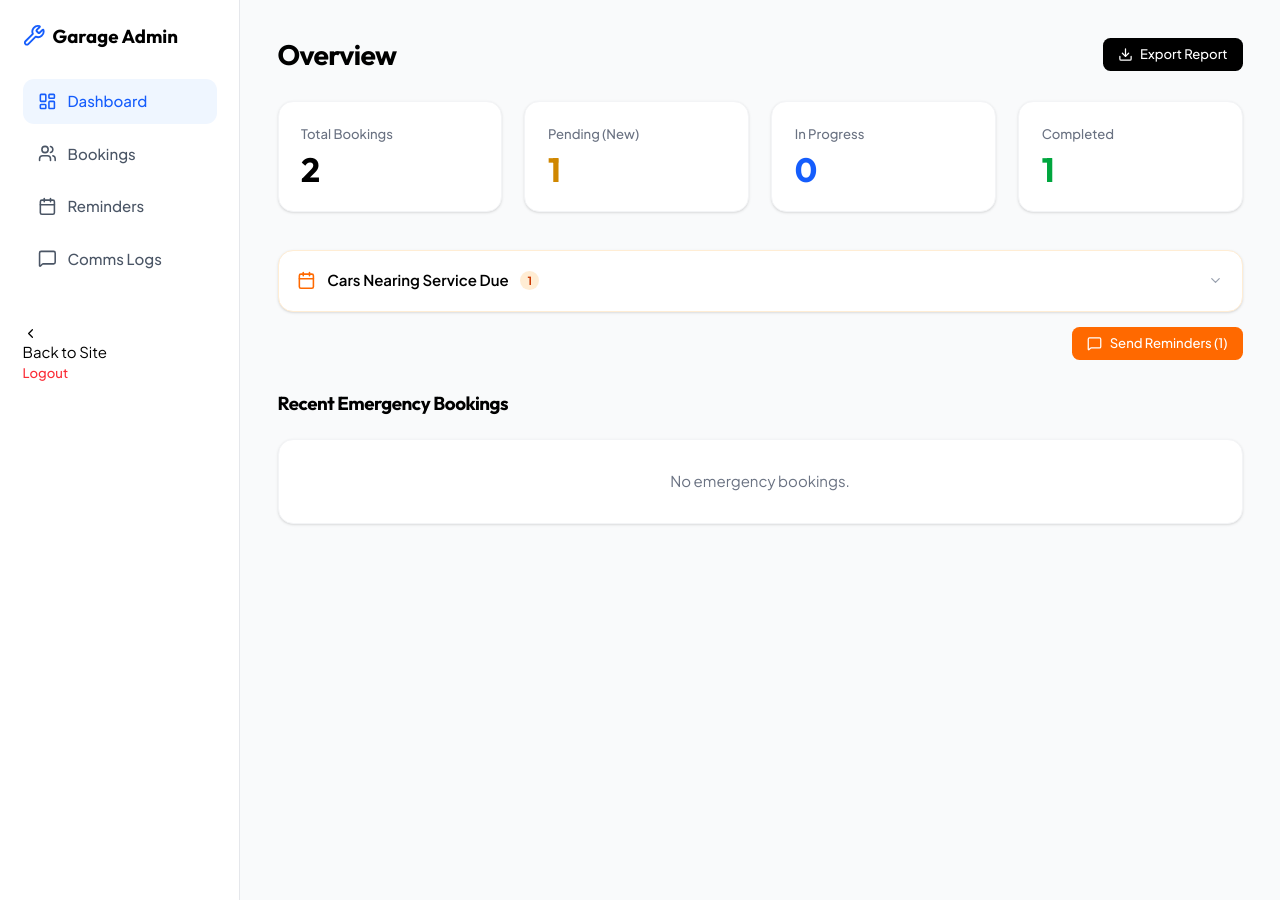
Test: Admin Bookings Search › filters bookings by customer name
Check: the text "Cars Nearing Service Due" is shown, box [327,269,509,292]
Click the button "Bookings". click: point(120, 154)
box: [22,131,216,176]
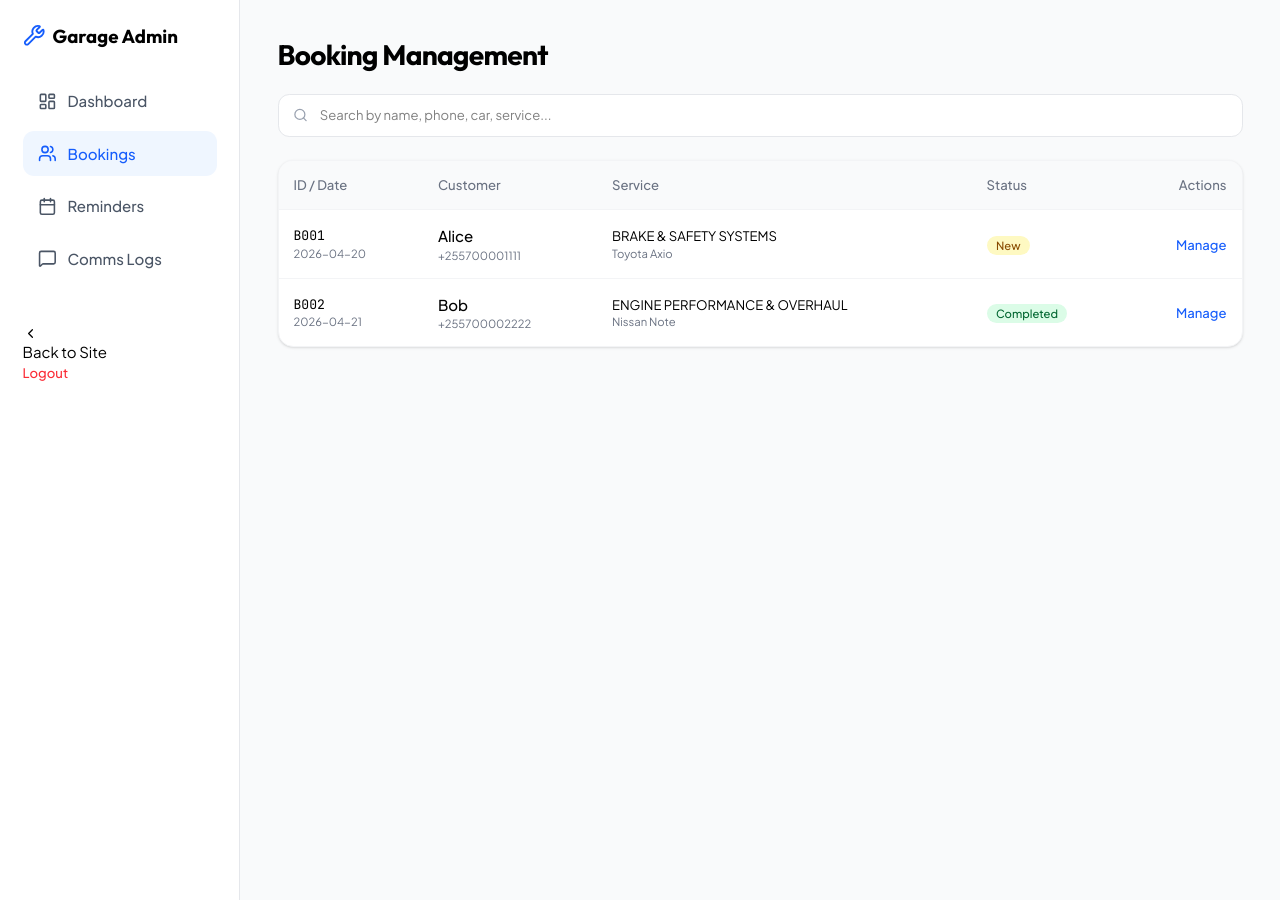
Type "Alice" into the field with placeholder "Search by name, phone, car, service...". click: point(760, 115)
box: [278,94,1242,137]
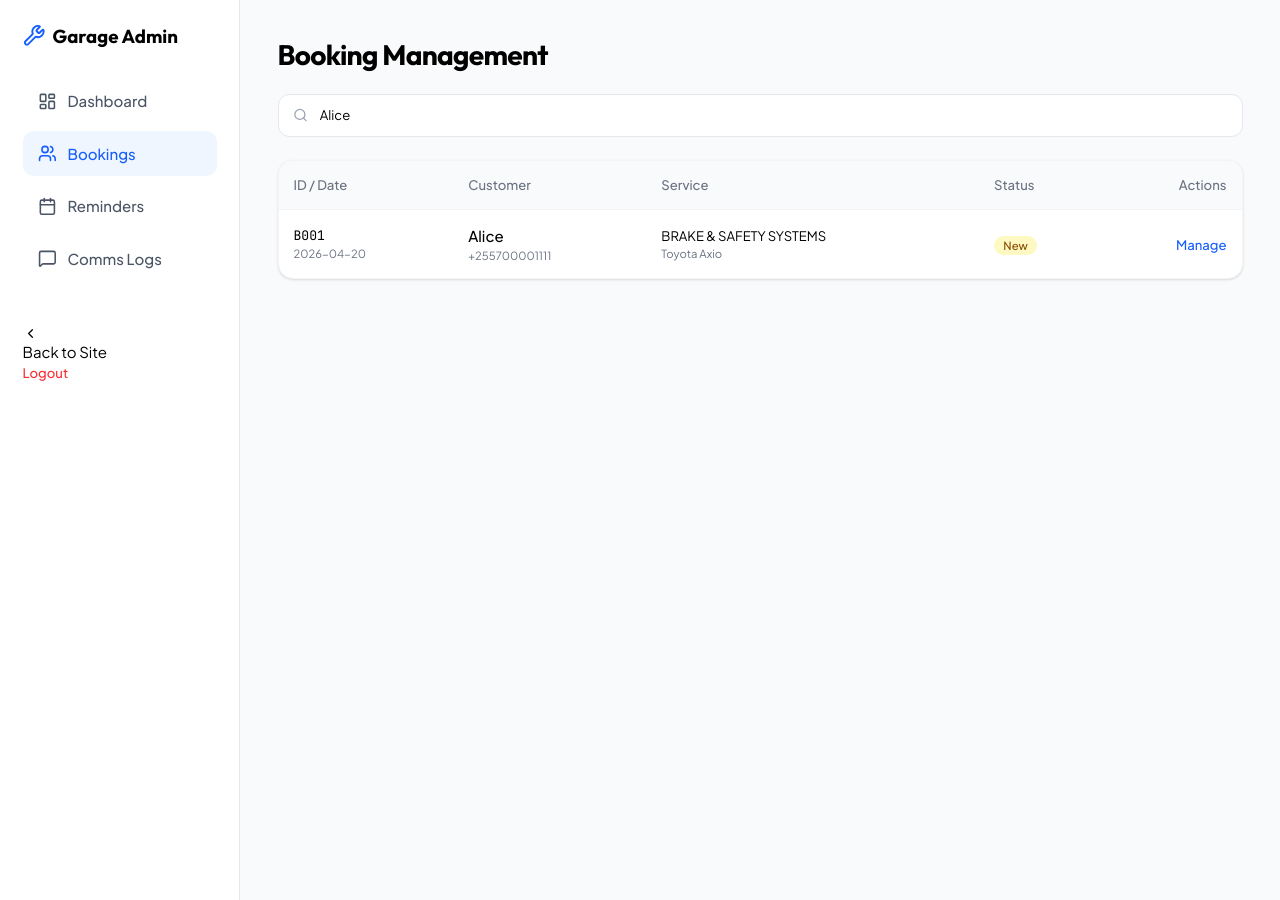
Check: the text "Alice" is shown, box [468,226,504,245]
Check: the text "Bob" is gone
